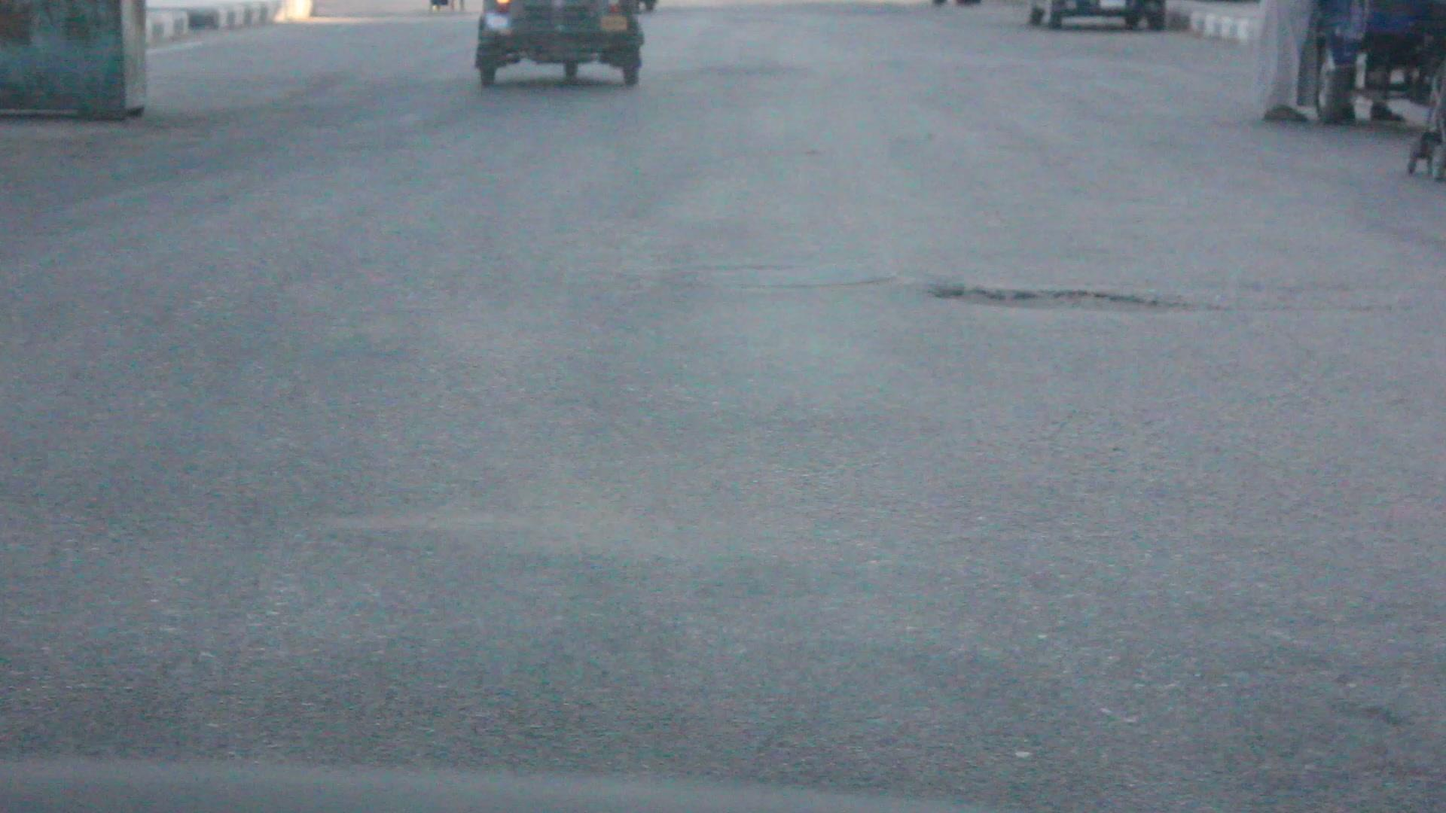Bump: (8, 545, 1445, 812)
Pothole: (912, 273, 1237, 326)
